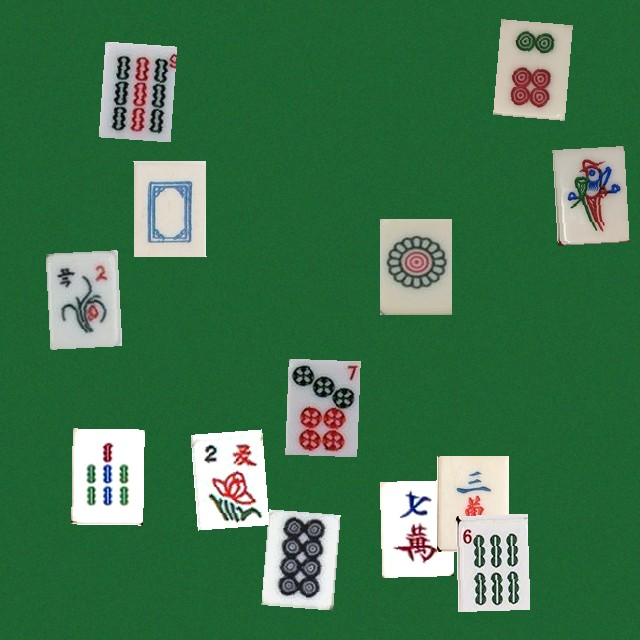tile: (133, 160, 205, 256), (98, 41, 170, 137), (71, 428, 143, 524), (379, 218, 451, 314), (379, 480, 451, 576), (552, 146, 624, 242), (493, 19, 565, 115), (261, 509, 333, 605), (436, 455, 508, 551), (45, 250, 117, 346), (455, 513, 527, 609), (190, 429, 262, 525), (285, 358, 357, 454)
